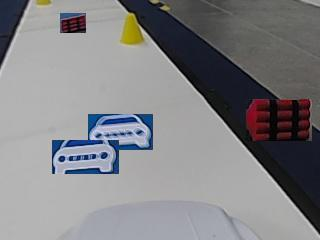cone: (120, 15, 144, 45)
